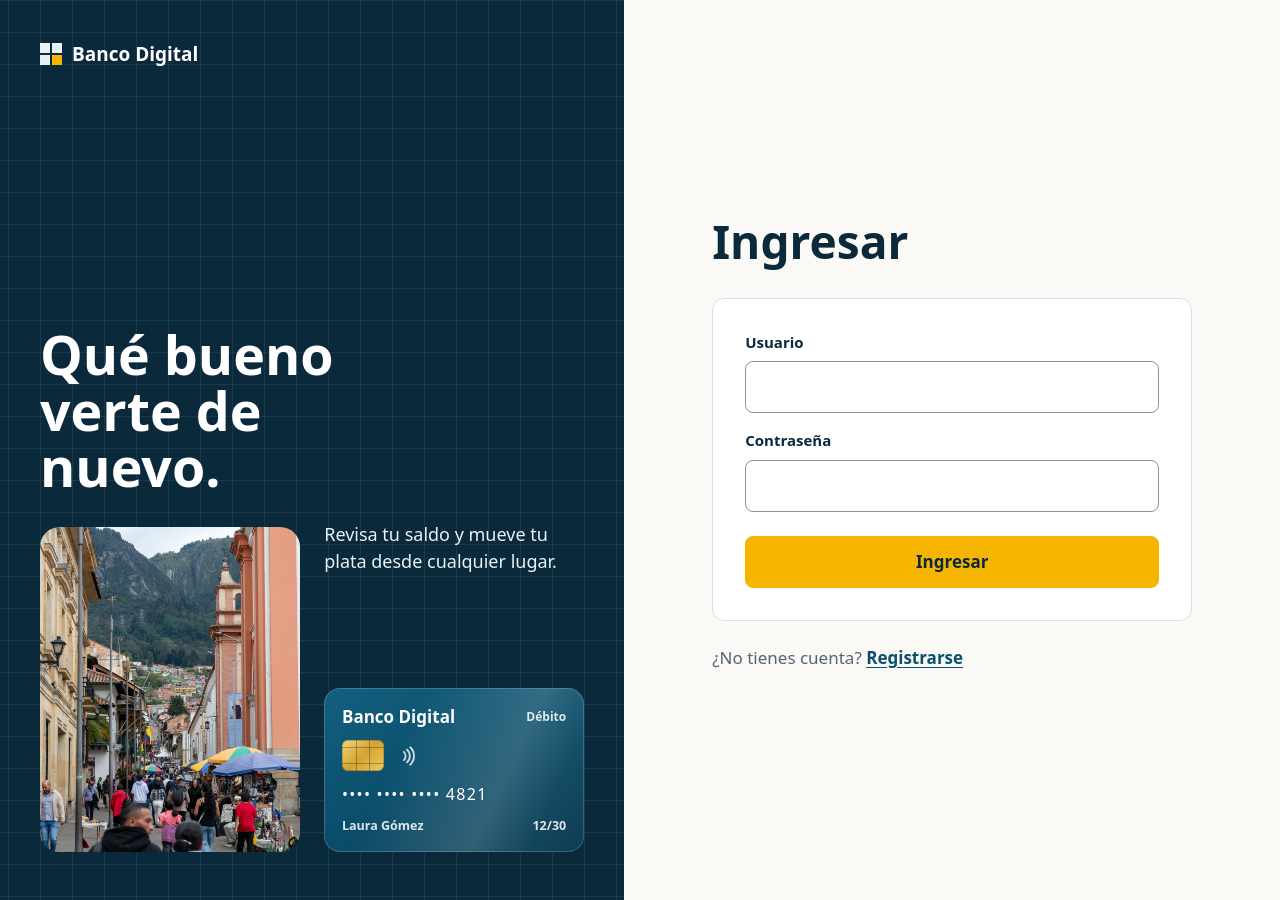
Test: Login › muestra tal cual el mensaje de bloqueo
Type "jperez42" into the field labelled "Usuario" at coordinates (952, 387), box x1=745 y1=361 x2=1159 y2=413
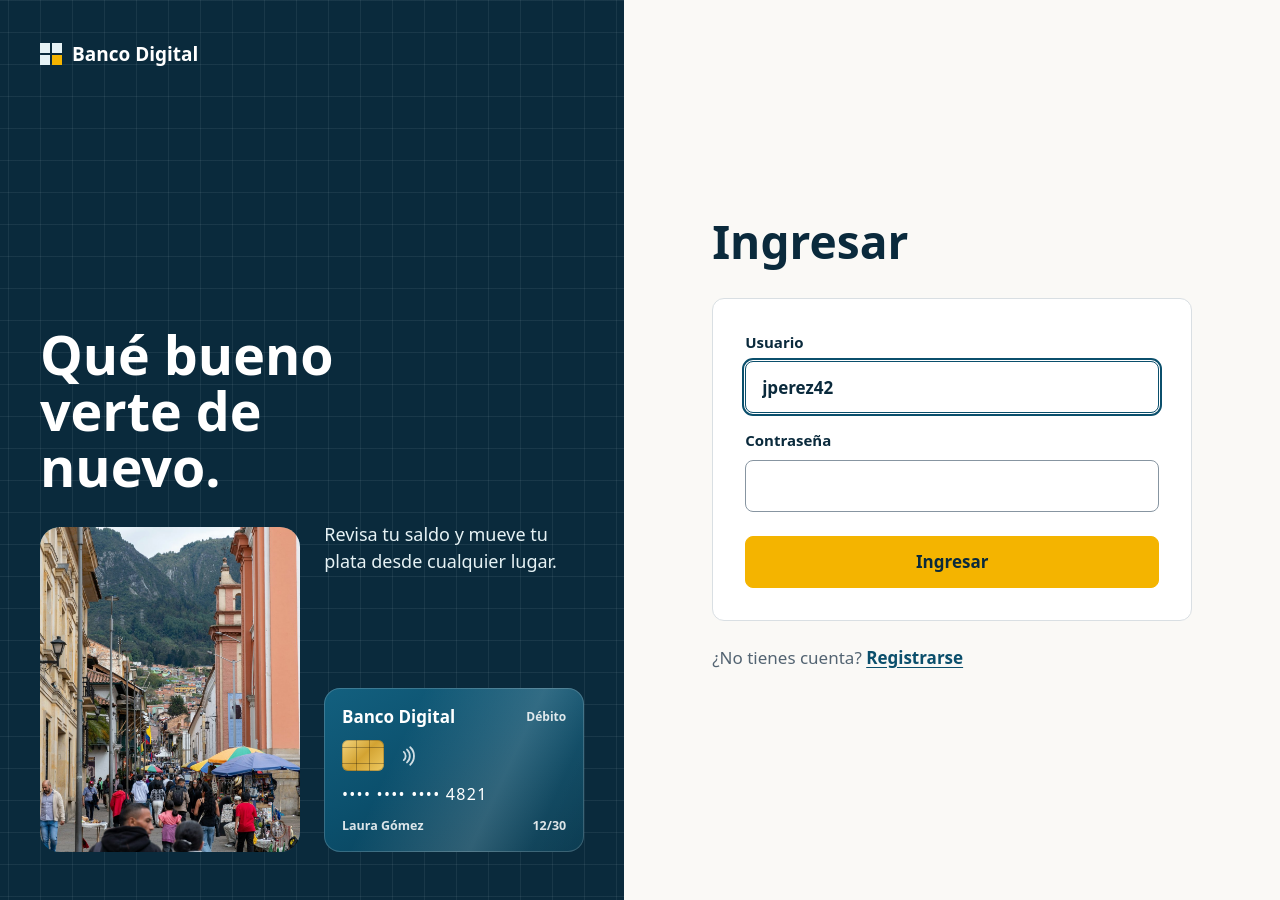
Type "x" into the password field labelled "Contraseña" at coordinates (952, 486), box x1=745 y1=460 x2=1159 y2=512
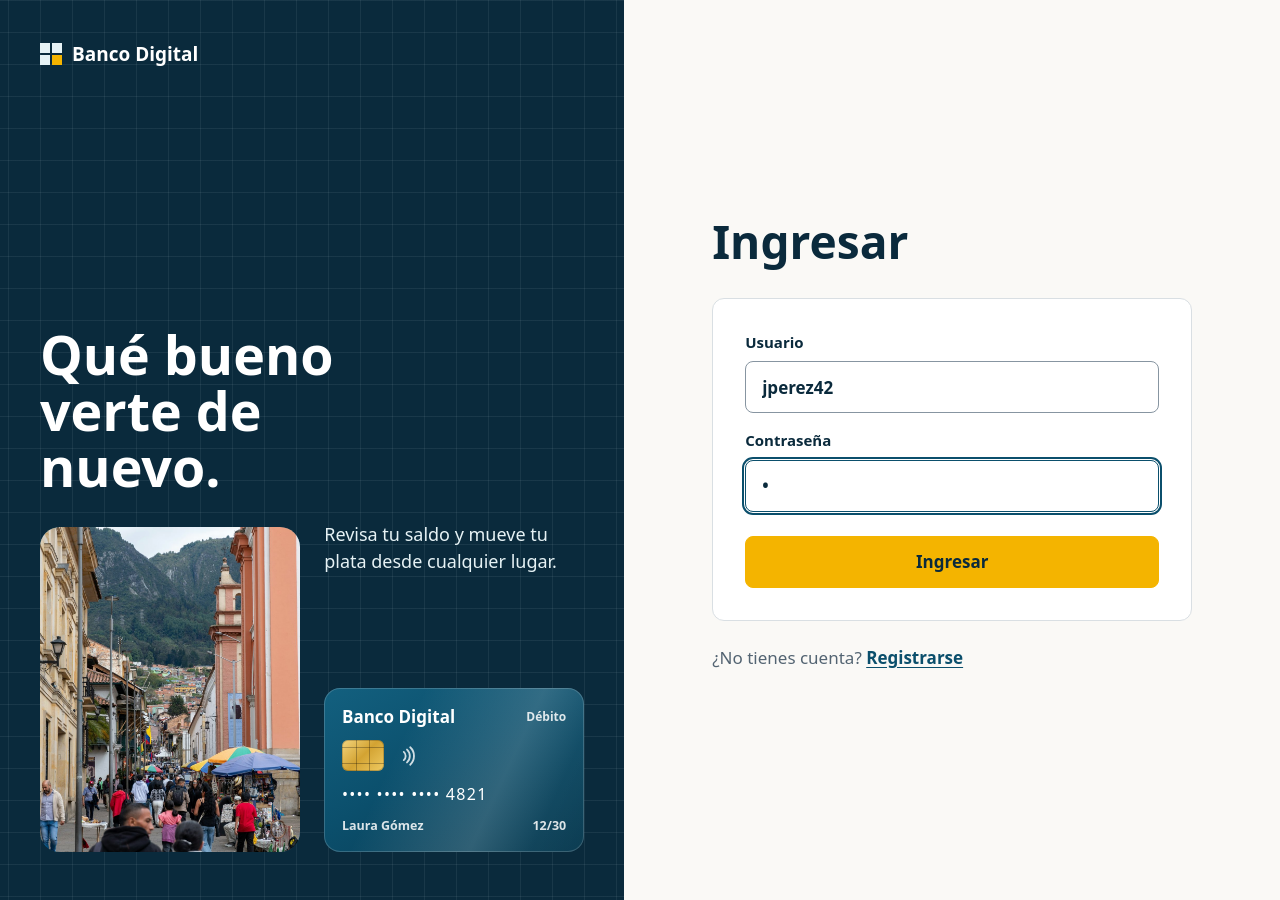
Click the button "Ingresar" at coordinates (952, 562), box x1=745 y1=536 x2=1159 y2=588
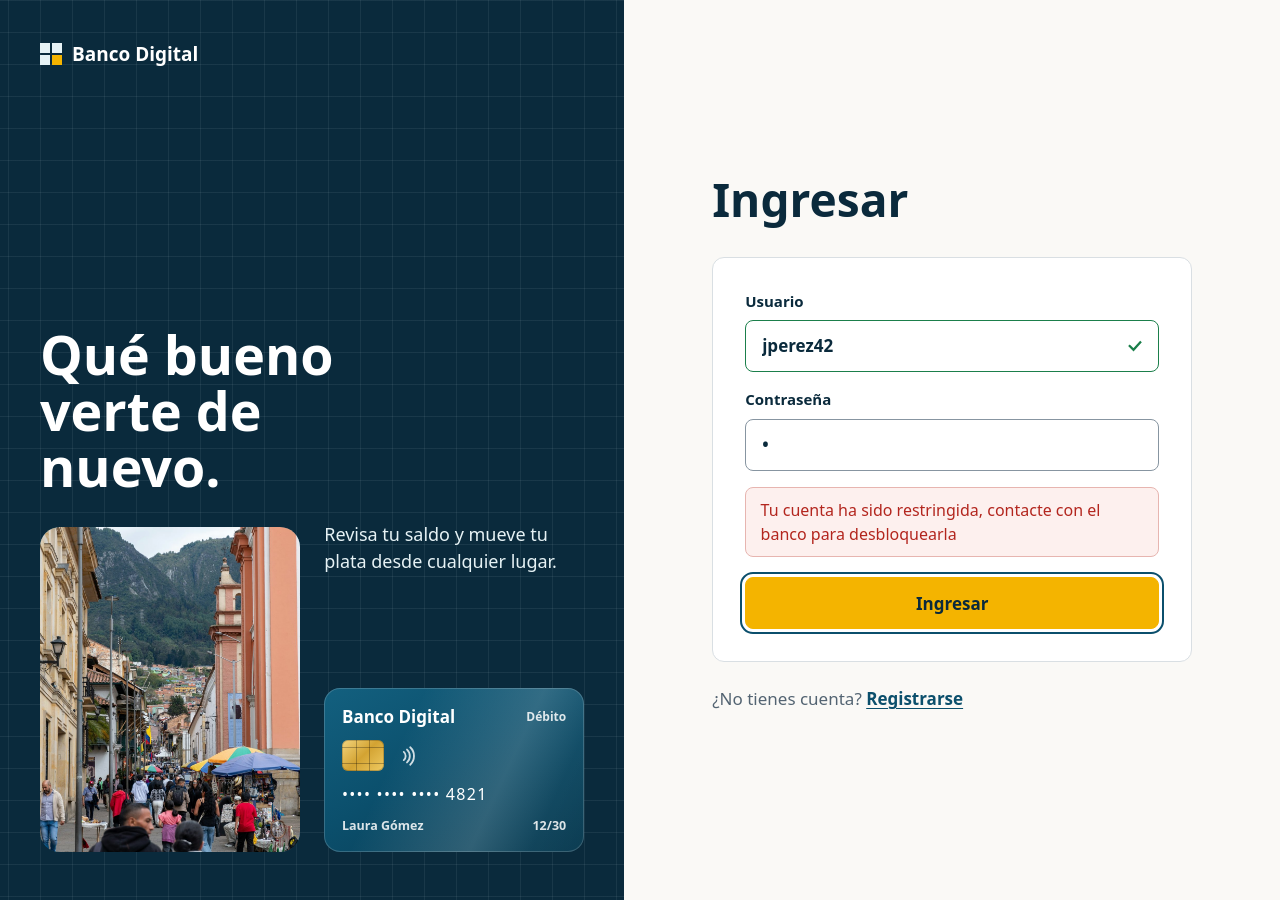
Now the text "Tu cuenta ha sido restringida, contacte con el banco para desbloquearla" is shown, box x1=745 y1=486 x2=1159 y2=557
